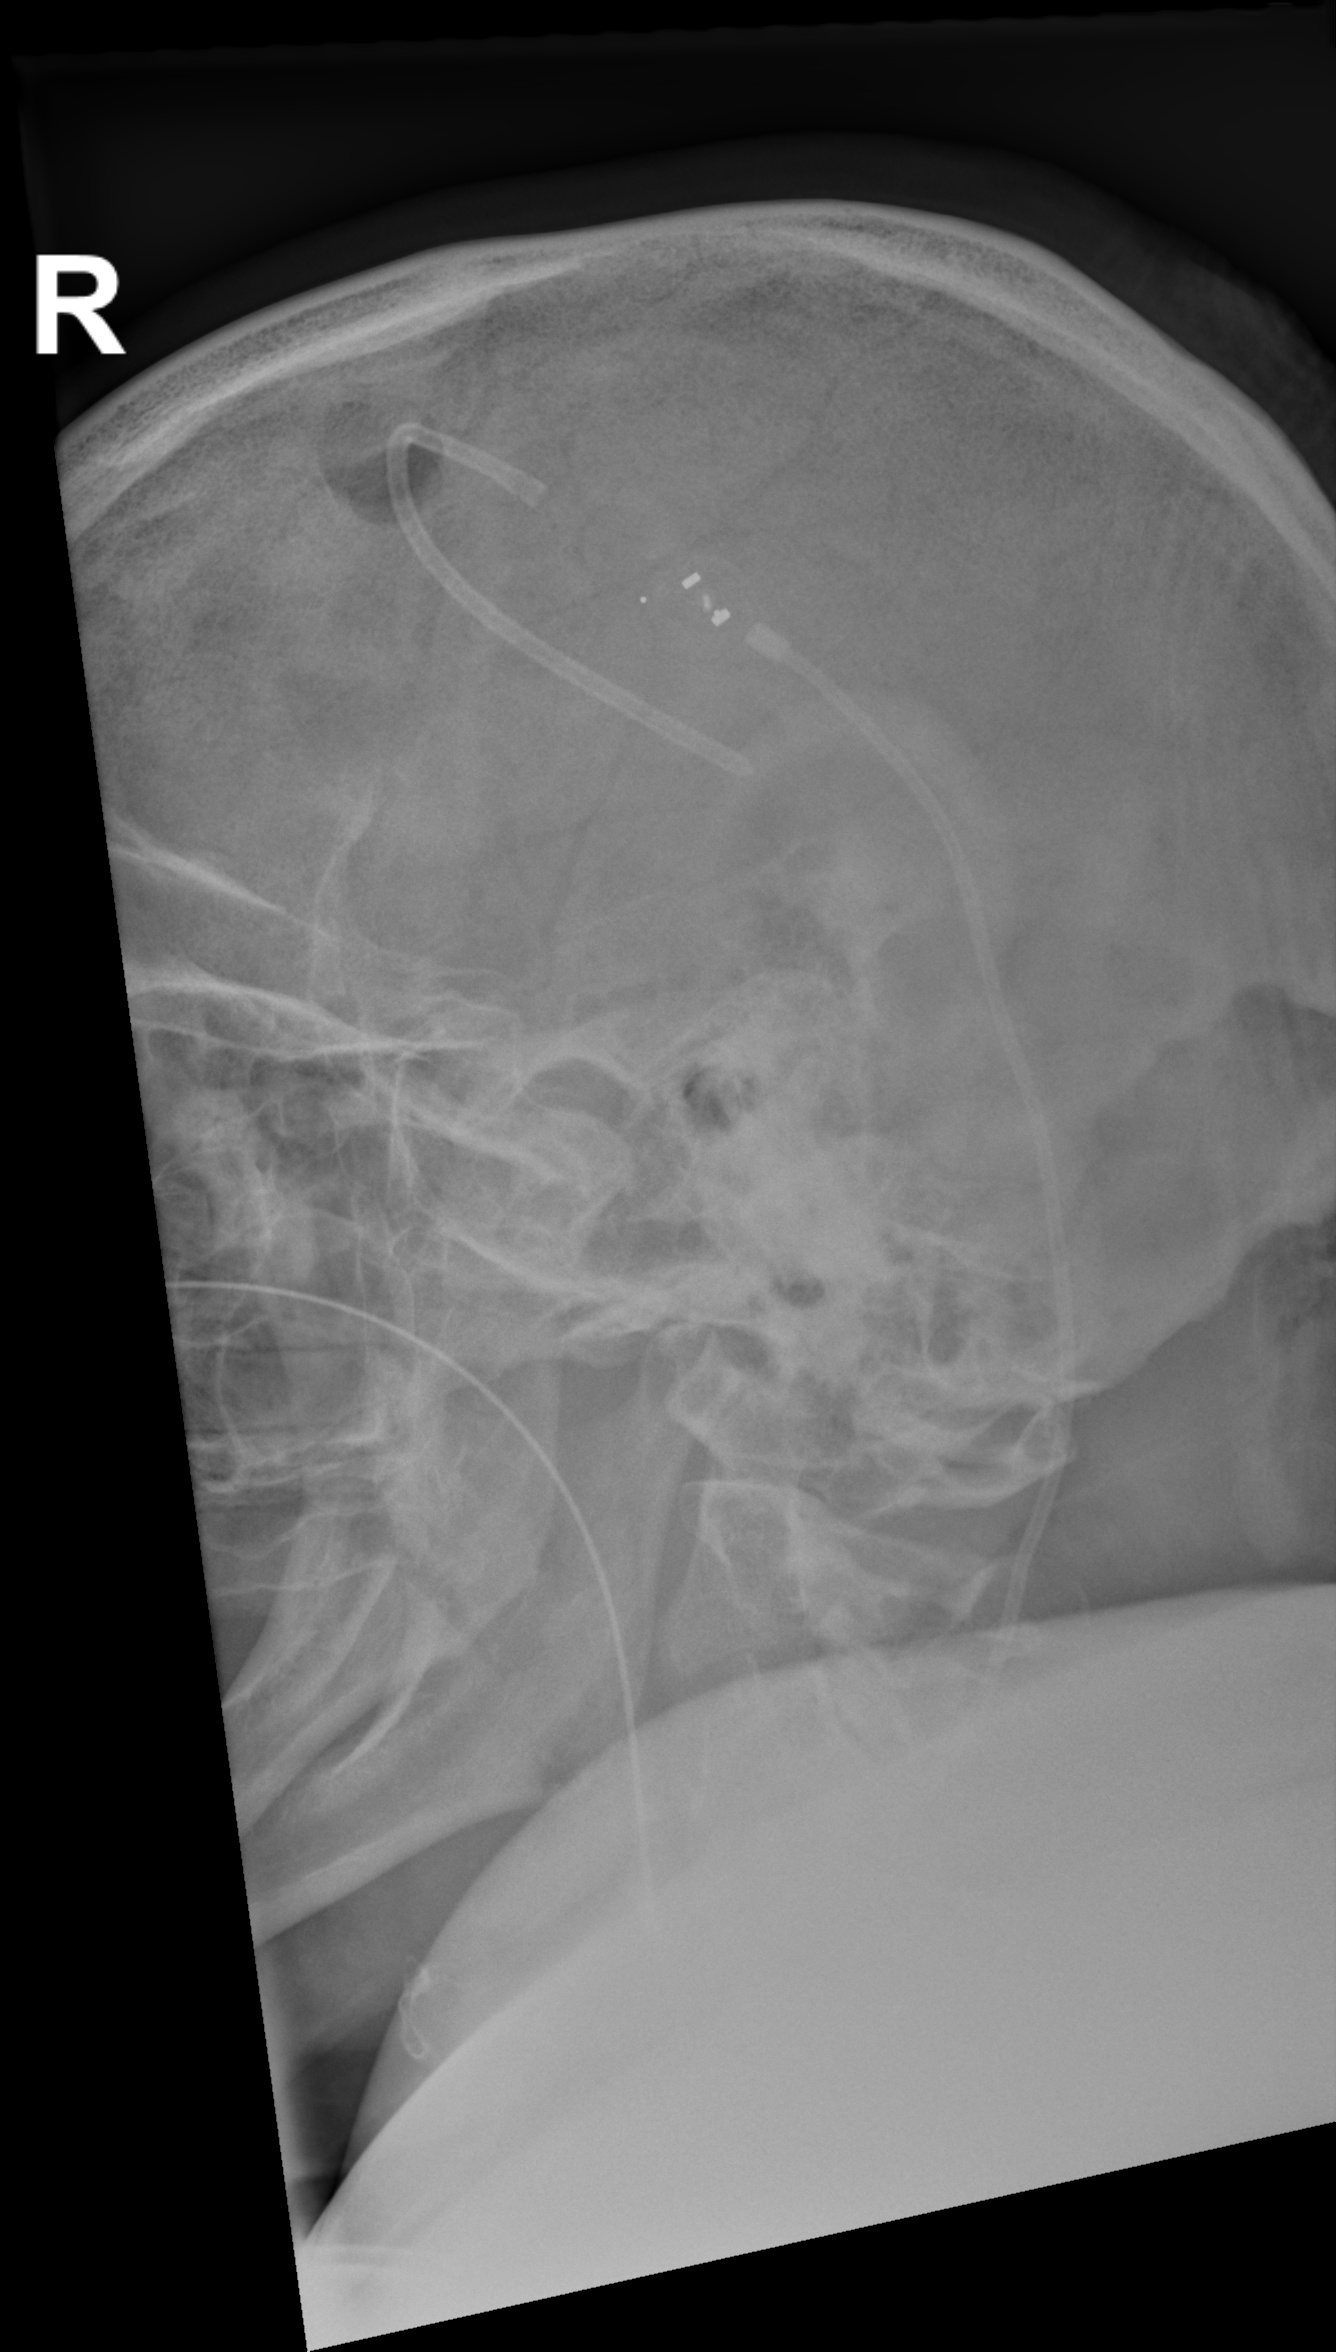Codman Certas: (635, 544, 763, 669)
